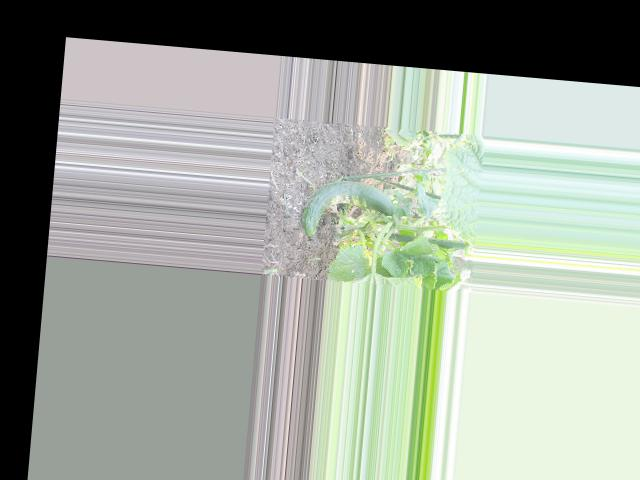cucumber: (300, 176, 398, 243)
